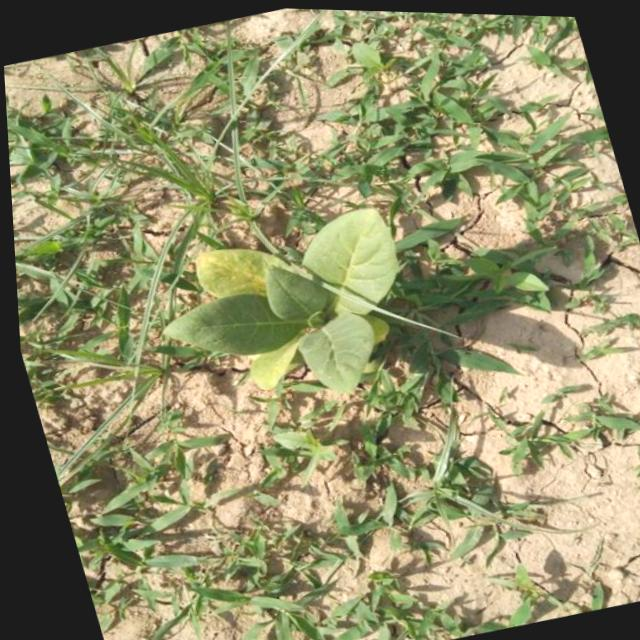healthy: (160, 205, 414, 388)
